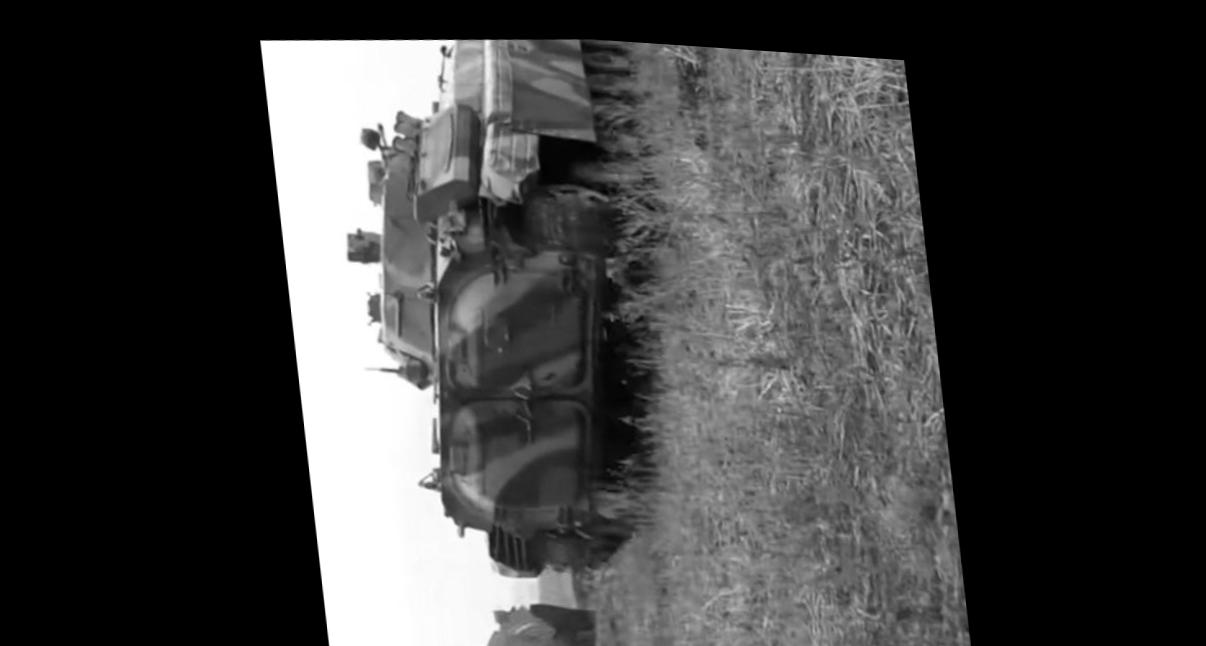tank: (347, 23, 717, 601), (400, 598, 609, 646)
